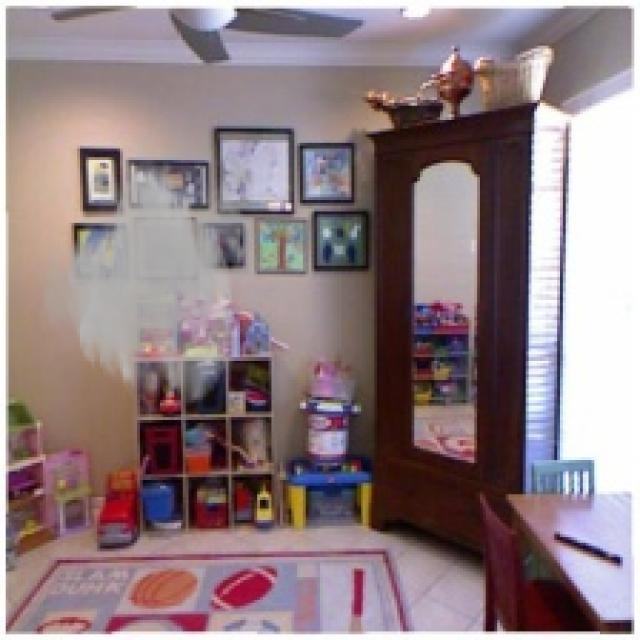smoke: (34, 132, 263, 408)
